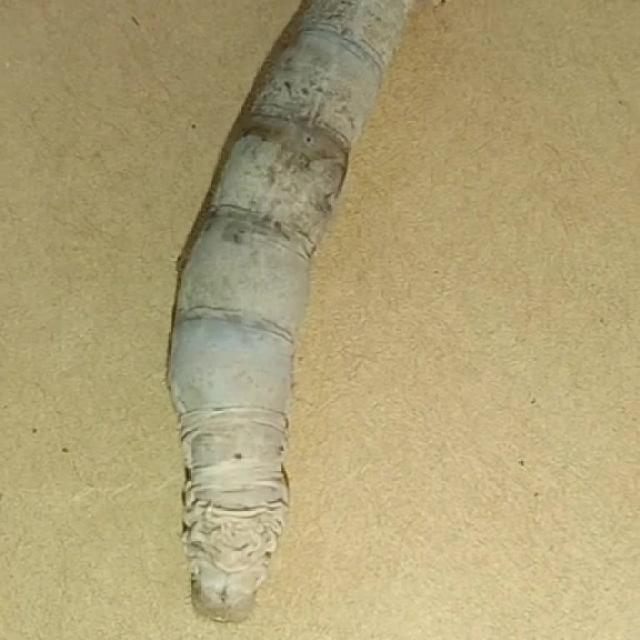Grasserie: (134, 0, 412, 626)
